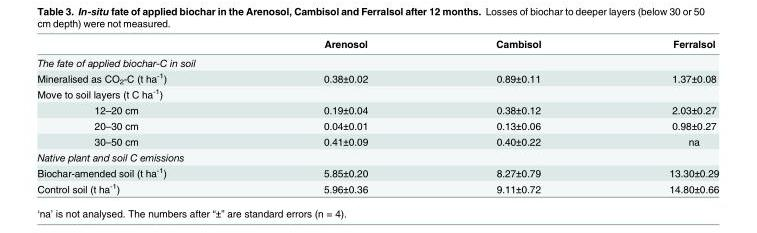table: (36, 37, 718, 194)
table column: (36, 37, 258, 194), (258, 37, 431, 194), (431, 37, 604, 194), (604, 37, 718, 194)
table column header: (36, 37, 718, 52)
table projected row header: (36, 52, 718, 69), (36, 85, 718, 101), (36, 149, 718, 164)
table row: (36, 52, 718, 69), (36, 69, 718, 85), (36, 85, 718, 101), (36, 101, 718, 117), (36, 117, 718, 133), (36, 133, 718, 149), (36, 37, 718, 52), (36, 149, 718, 164), (36, 164, 718, 179), (36, 179, 718, 194)
